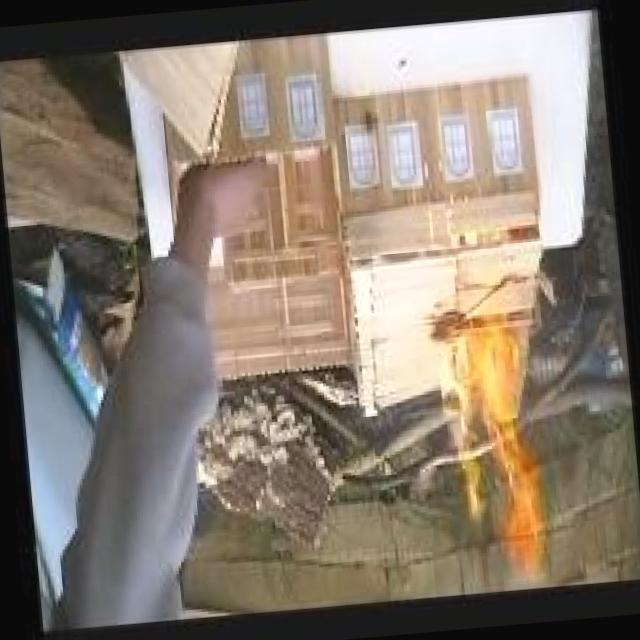fire: (426, 324, 561, 547)
